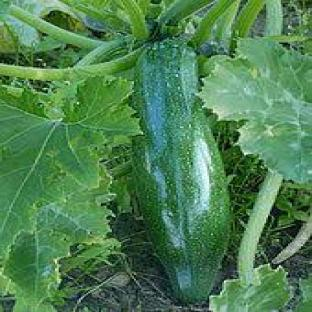Zucchini: (134, 39, 229, 303)
